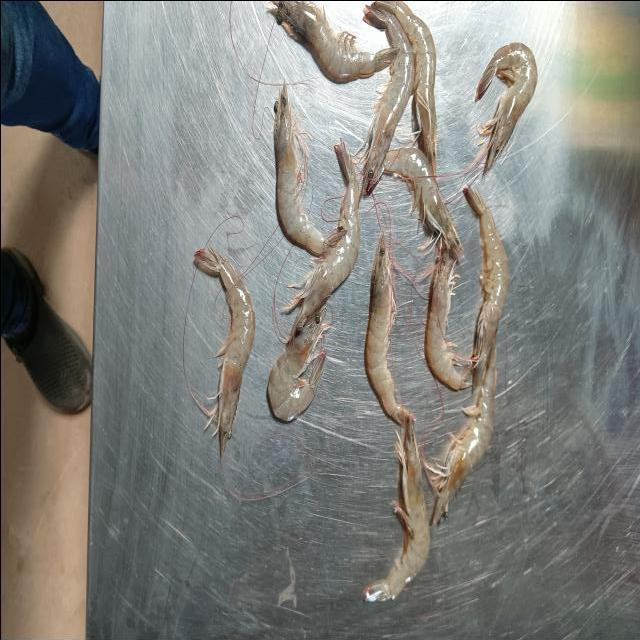shrimp: (281, 139, 359, 339), (422, 341, 496, 525), (192, 248, 255, 456), (362, 416, 429, 602), (374, 0, 436, 175), (266, 0, 395, 84), (360, 4, 414, 197), (462, 186, 509, 392), (384, 148, 462, 259), (364, 235, 409, 427), (274, 84, 324, 255), (475, 42, 536, 175), (266, 305, 329, 421), (424, 248, 470, 392)
